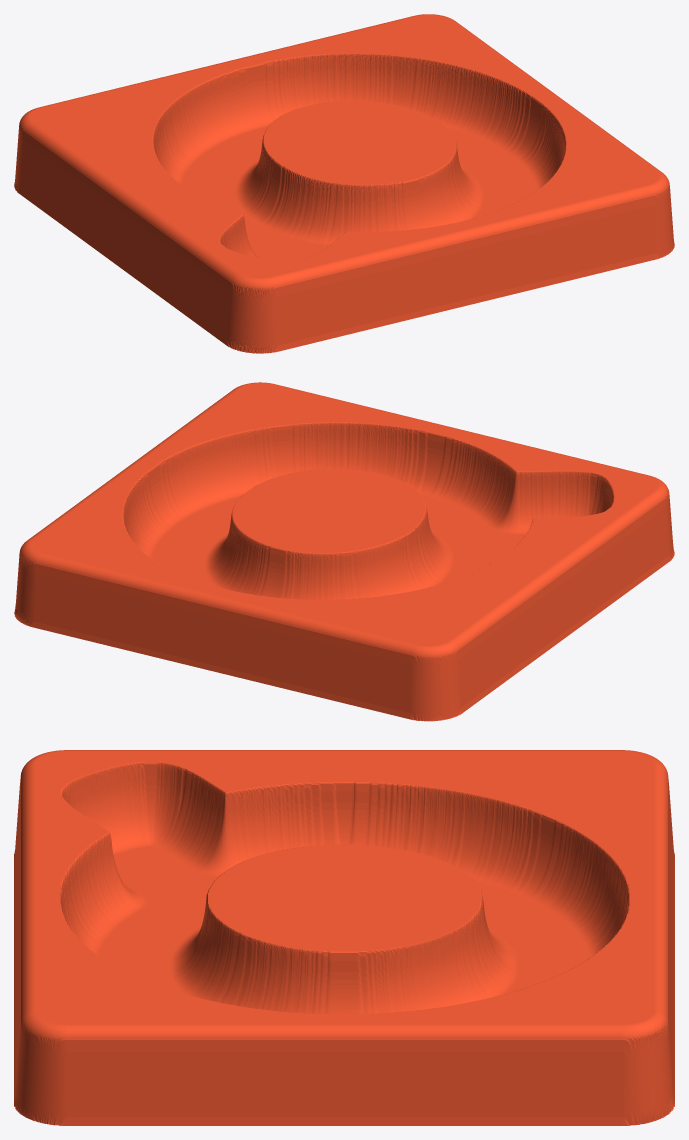
The model's file is mold.glb.
3 views of the same model, one above another, from view 1: azimuth 30°, elevation 25°; view 2: azimuth 150°, elevation 25°; view 3: azimuth 270°, elevation 25° (orthographic). The views are drawn at different scales.
Visible parts, largest first — view 1: geometry_0; view 2: geometry_0; view 3: geometry_0.
Part boxes in pixels (x1,y1,x2,y2): geometry_0: [14, 14, 674, 353]; geometry_0: [14, 382, 674, 721]; geometry_0: [14, 750, 674, 1125].
Size of the model in its own units: 0.1178 by 0.0175 by 0.1132.
